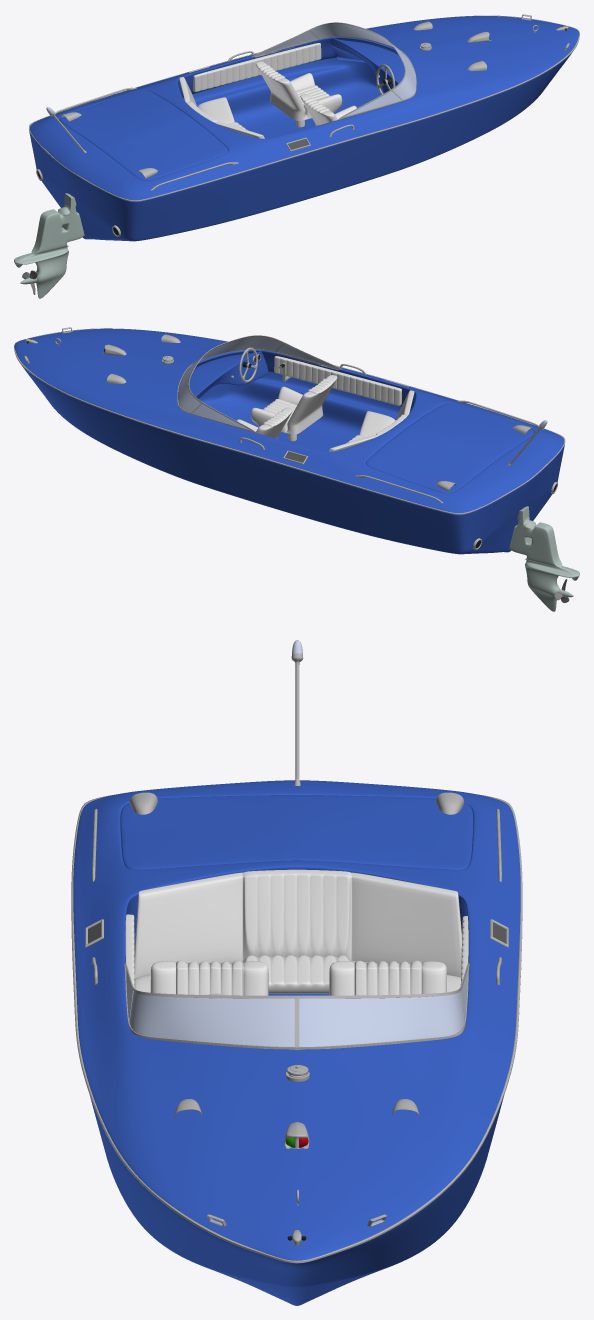
The model's file is ChrisCraft.glb.
3 views of the same model, one above another, from view 1: azimuth 30°, elevation 25°; view 2: azimuth 150°, elevation 25°; view 3: azimuth 270°, elevation 25° (orthographic). The views are drawn at different scales.
Visible parts, largest first — view 1: BoatHull, BoatHull.003, Chair2.001, Pads, WIndshield, Cube.010, BoatHull.002, Trim, Cube.011, Chair.Back, WIndshield.001, Chair2 (+3 smaller); view 2: BoatHull, BoatHull.003, Chair2, Pads, WIndshield, BoatHull.002, Cube.010, Trim, Cube.011, Chair.Back, WIndshield.001, Chair2.001 (+3 smaller); view 3: BoatHull, Chair.Back, BoatHull.003, WIndshield, Chair2.001, Chair2, Trim, WIndshield.001, Cube.002, Pads, Cube.009, Cube.001.
Part boxes in pixels (<box>): BoatHull: <box>29,16,579,241</box>; BoatHull.003: <box>59,90,227,180</box>; Chair2.001: <box>255,61,342,120</box>; Pads: <box>193,43,321,91</box>; WIndshield: <box>255,23,415,116</box>; Cube.010: <box>31,193,84,254</box>; BoatHull.002: <box>331,38,404,93</box>; Trim: <box>29,15,579,201</box>; Cube.011: <box>14,247,68,298</box>; Chair.Back: <box>179,77,264,138</box>; WIndshield.001: <box>252,22,416,119</box>; Chair2: <box>300,94,356,126</box>; BoatHull: <box>14,328,564,554</box>; BoatHull.003: <box>366,403,534,492</box>; Chair2: <box>250,375,337,434</box>; Pads: <box>274,356,401,405</box>; WIndshield: <box>178,336,339,429</box>; BoatHull.002: <box>189,351,268,398</box>; Cube.010: <box>509,506,562,567</box>; Trim: <box>14,328,565,514</box>; Cube.011: <box>525,560,579,611</box>; Chair.Back: <box>328,390,414,451</box>; WIndshield.001: <box>177,335,342,432</box>; Chair2.001: <box>236,407,292,438</box>; BoatHull: <box>73,780,520,1305</box>; Chair.Back: <box>134,869,461,993</box>; BoatHull.003: <box>120,795,473,869</box>; WIndshield: <box>126,970,467,1049</box>; Chair2.001: <box>329,960,446,995</box>; Chair2: <box>150,960,268,995</box>; Trim: <box>71,794,522,1263</box>; WIndshield.001: <box>124,963,469,1049</box>; Cube.002: <box>129,792,464,1118</box>; Pads: <box>125,914,468,987</box>; Cube.009: <box>85,919,508,984</box>; Cube.001: <box>291,640,303,785</box>.
Size of the model in its own units: 0.3292 by 0.1059 by 0.1142.
